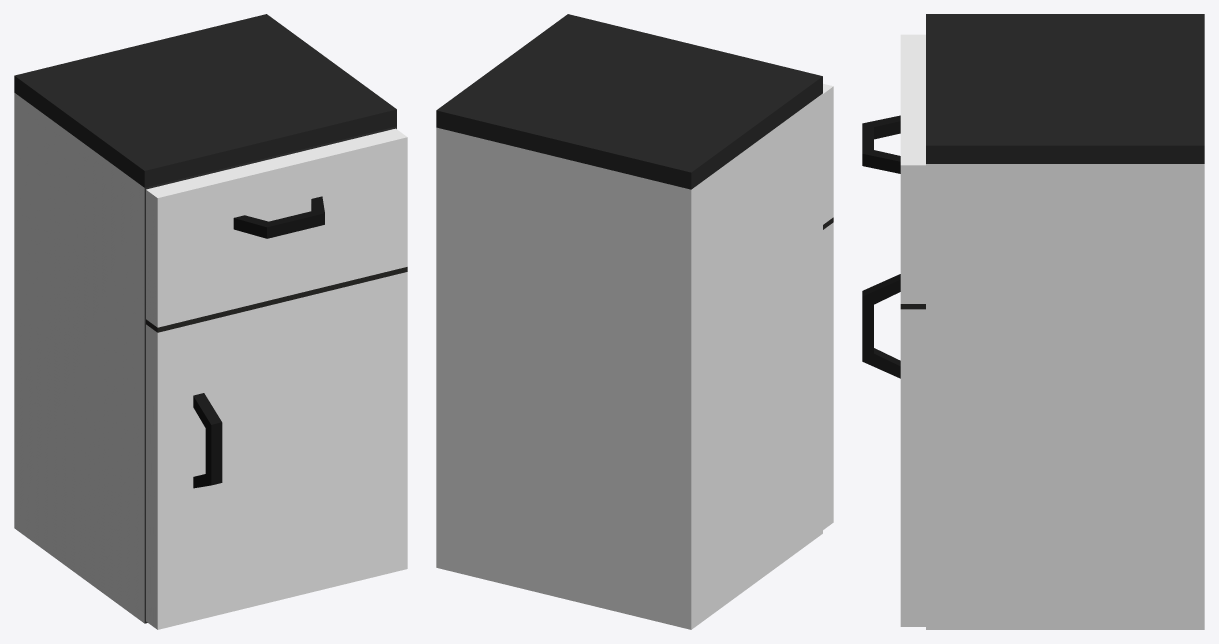
File: Kitchen_Cabinet_3A.fbx
The picture shows the model from 3 angles, left to right: view 1: azimuth 30°, elevation 25°; view 2: azimuth 150°, elevation 25°; view 3: azimuth 270°, elevation 25°; orthographic projection. The views are drawn at different scales.
Parts seen in each view (by area): view 1: polySurface965; view 2: polySurface965; view 3: polySurface965.
Boxes of the visible parts, <box> form: polySurface965: <box>14,14,407,629</box>; polySurface965: <box>436,14,833,629</box>; polySurface965: <box>862,14,1204,629</box>.
Size of the model in its own units: 0.7792 by 1.34 by 0.8565.
1 material, 1 textured.
